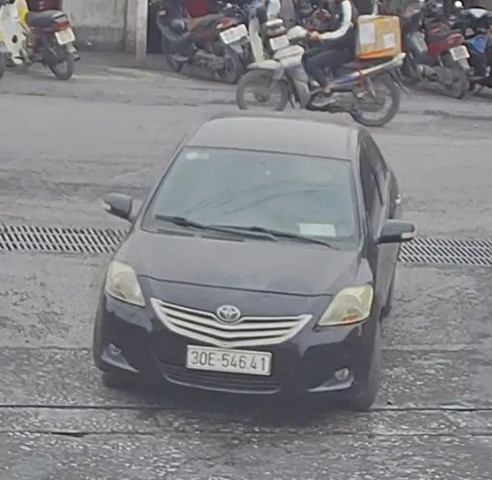vehicle plate: (186, 340, 278, 376)
